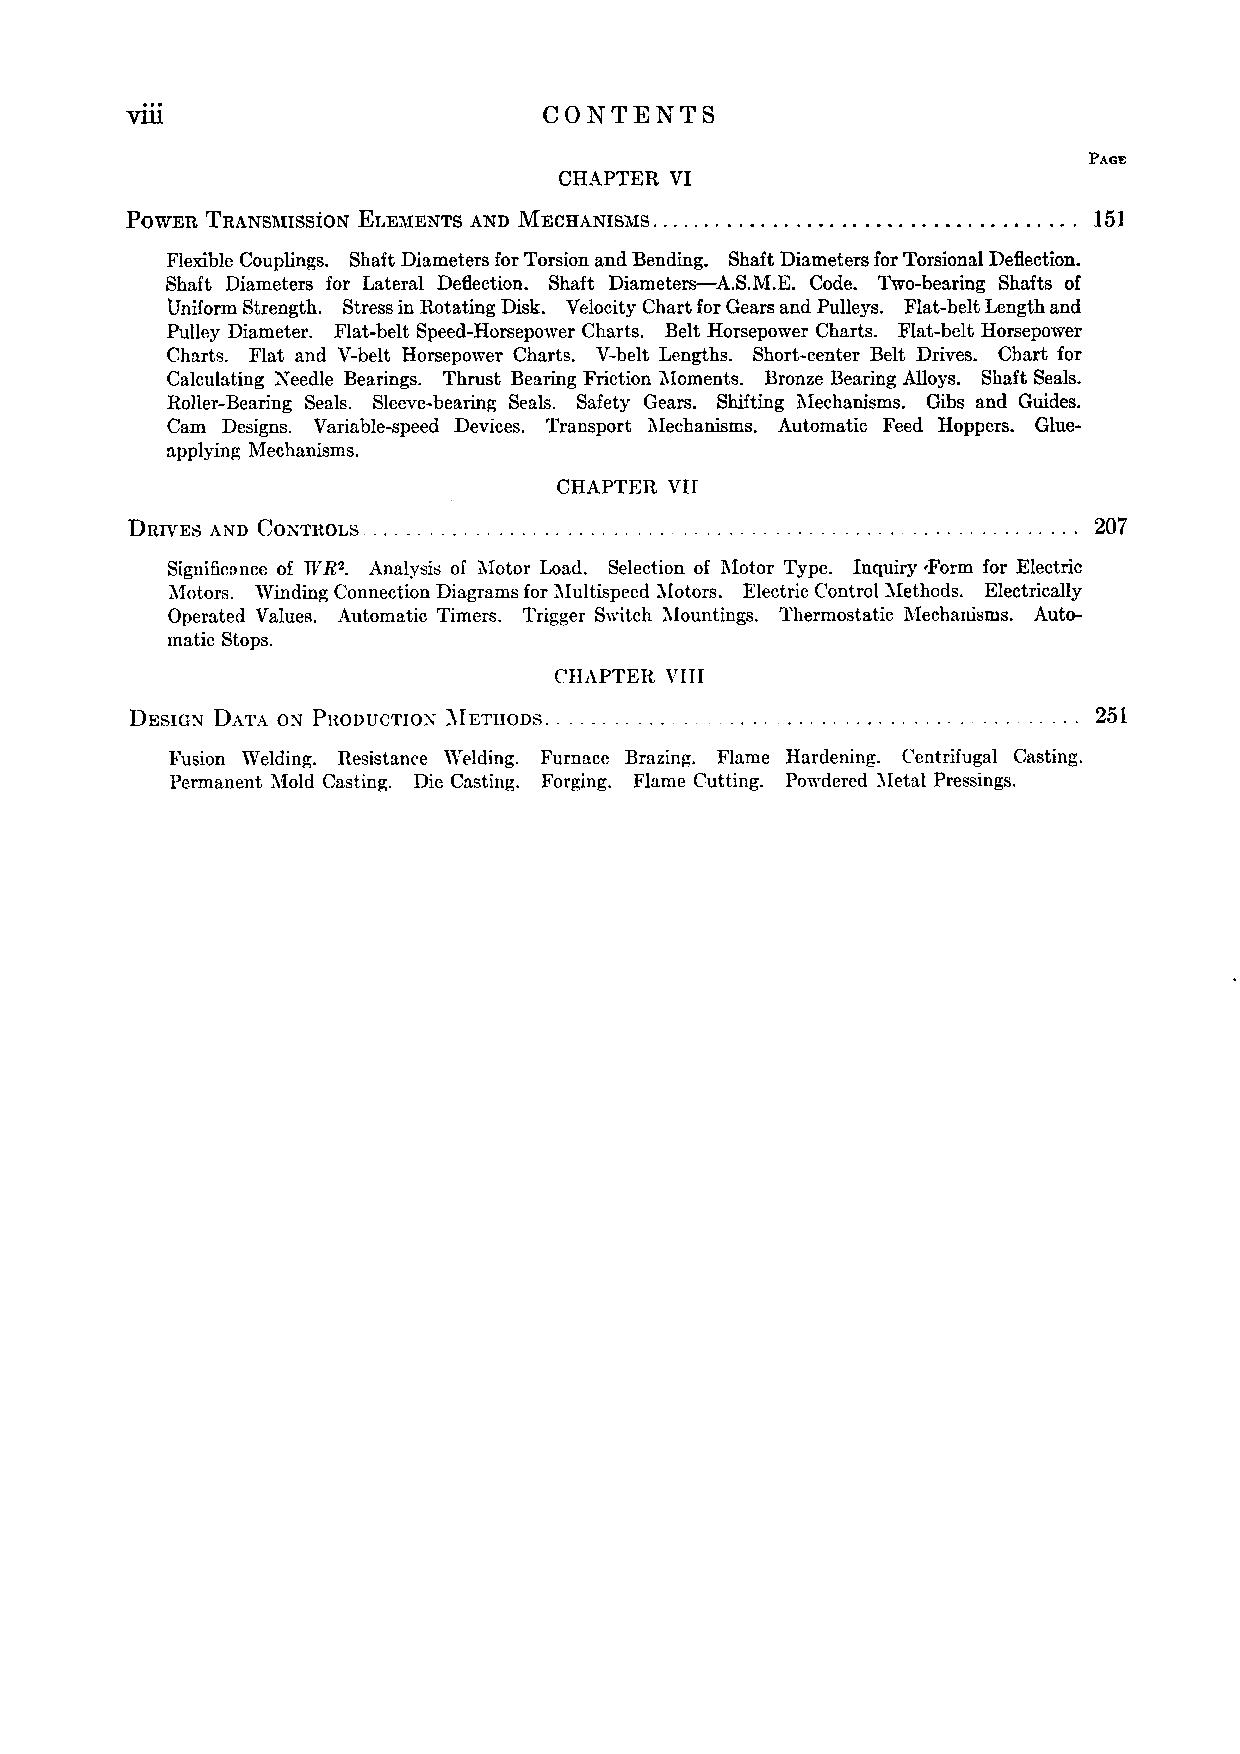TOC_chapter: (109, 203, 1084, 464), (111, 513, 1086, 650), (107, 702, 1086, 815), (544, 660, 721, 697), (558, 475, 709, 507), (552, 160, 701, 185)
TOC_pagenumber: (1091, 201, 1134, 242), (1091, 692, 1127, 735), (1092, 505, 1129, 544)
chapter: (531, 93, 725, 129)
